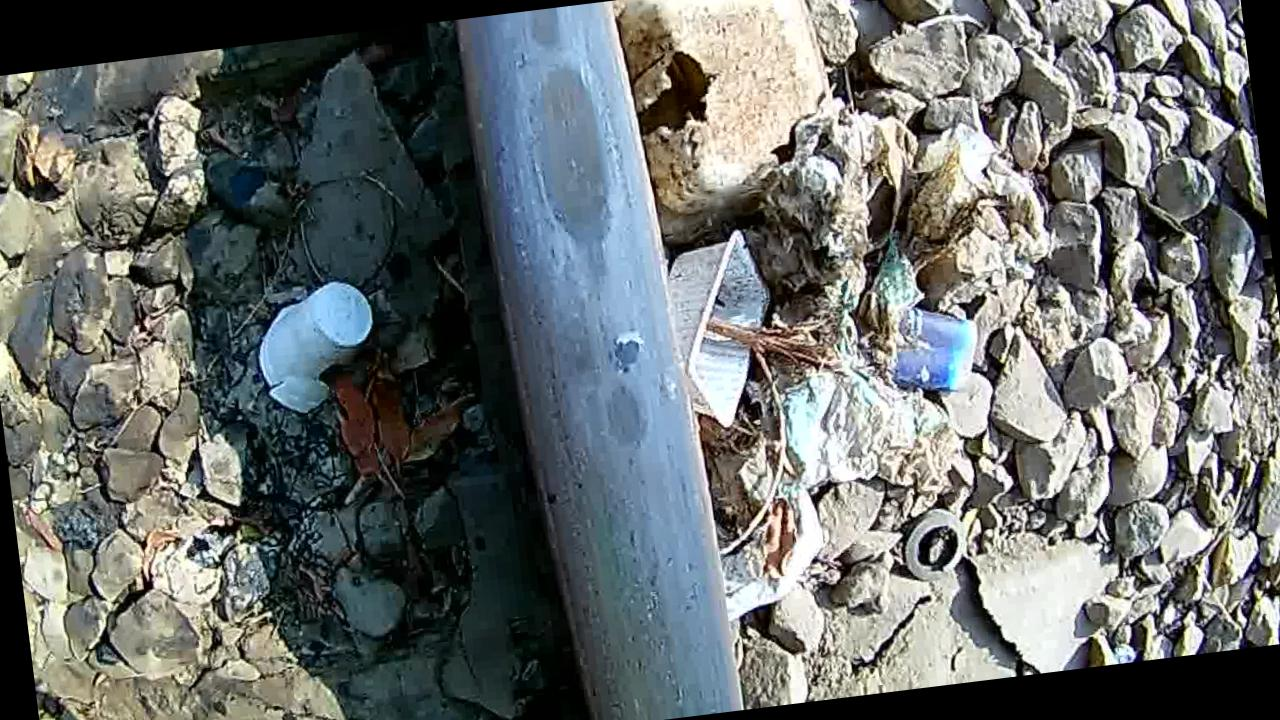bolt_missing: (464, 0, 675, 482)
